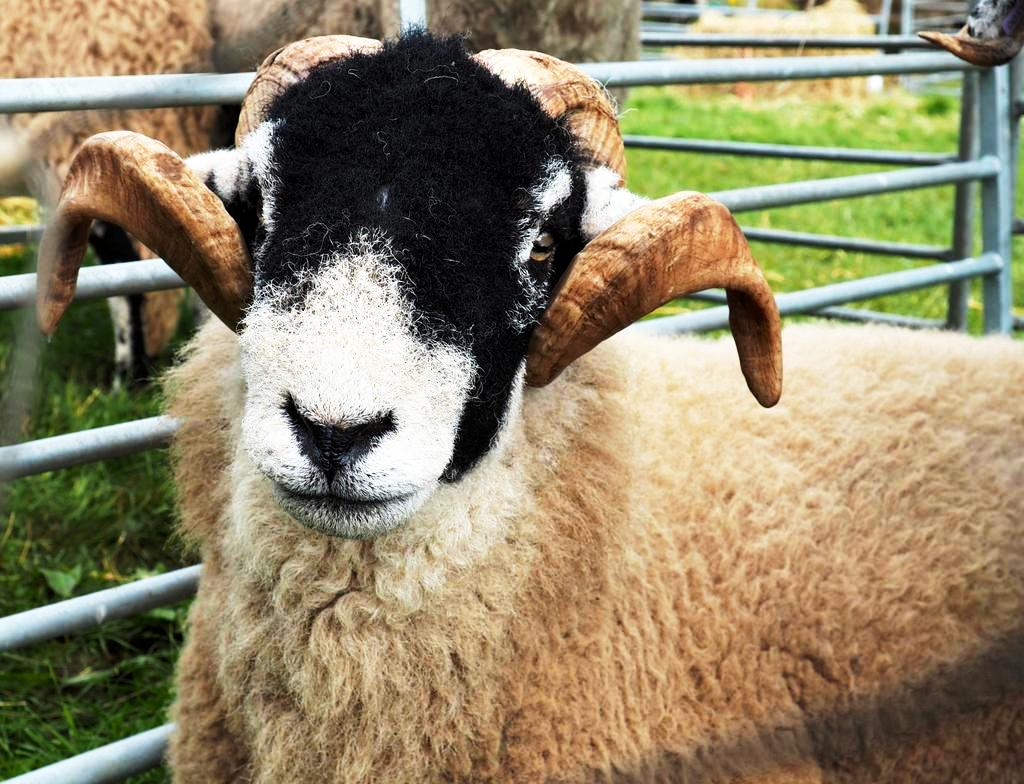Sheep: (29, 33, 1022, 784), (0, 0, 214, 376)
